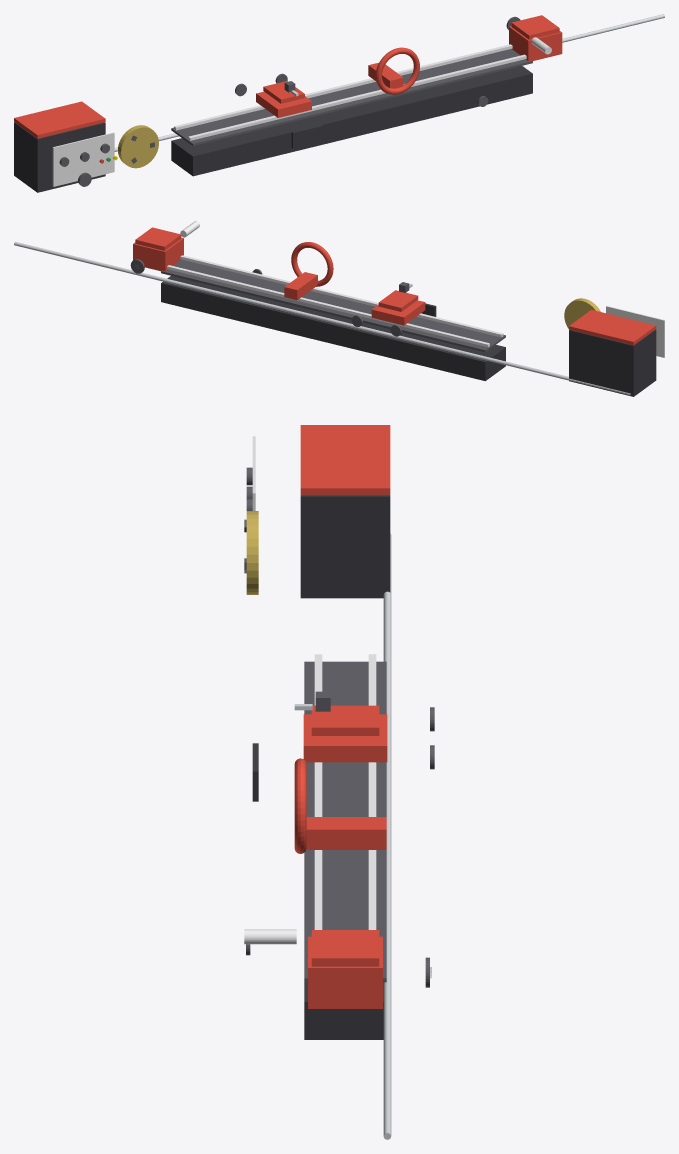
The model's file is mesin_bubut.glb.
The picture shows the model from 3 angles, top to bottom: view 1: azimuth 30°, elevation 25°; view 2: azimuth 150°, elevation 25°; view 3: azimuth 270°, elevation 25°; orthographic projection. The views are drawn at different scales.
Parts seen in each view (by area): view 1: MainBed, BedTop, Headstock, ControlPanel, HeadstockTopRed, GuideRail_-0.18, GuideRail_0.18, Chuck, Tailstock, SteadyRestRing, Carriage, TailstockTop (+4 smaller); view 2: MainBed, Headstock, BedTop, LeadScrew, HeadstockTopRed, GuideRail_0.18, GuideRail_-0.18, Tailstock, ControlPanel, Carriage, TailstockTop, SteadyRestRing (+3 smaller); view 3: BedTop, Headstock, HeadstockTopRed, LeadScrew, Tailstock, Carriage, SteadyRest_Base, MainBed, TailstockTop, CrossSlide, GuideRail_0.18, GuideRail_-0.18 (+2 smaller).
Part boxes in pixels (x1,y1,x2,y2): MainBed: (171,66,532,176); BedTop: (171,49,532,145); Headstock: (14,122,105,192); ControlPanel: (52,132,114,186); HeadstockTopRed: (14,101,105,138); GuideRail_-0.18: (188,54,526,140); GuideRail_0.18: (174,44,512,130); Chuck: (118,125,158,168); Tailstock: (509,26,562,60); SteadyRestRing: (375,47,419,94); Carriage: (256,91,311,117); TailstockTop: (511,15,559,39); MainBed: (161,275,505,381); Headstock: (569,329,656,396); BedTop: (161,259,505,352); LeadScrew: (14,241,630,395); HeadstockTopRed: (569,309,656,345); GuideRail_0.18: (167,265,489,347); GuideRail_-0.18: (180,255,503,337); Tailstock: (133,237,183,271); ControlPanel: (606,306,664,357); Carriage: (371,300,425,325); TailstockTop: (135,227,181,250); SteadyRestRing: (291,242,333,286); BedTop: (304,661,386,982); Headstock: (300,495,390,598); HeadstockTopRed: (300,425,390,495); LeadScrew: (383,533,391,1139); Tailstock: (308,936,382,1008); Carriage: (303,714,387,762); SteadyRest_Base: (306,817,386,849); MainBed: (304,982,383,1039); TailstockTop: (311,930,379,966); CrossSlide: (311,705,379,735); GuideRail_0.18: (368,654,376,929); GuideRail_-0.18: (314,654,322,929).
Bounding box in the file's own units: 9.55 × 1.12 × 1.27.
